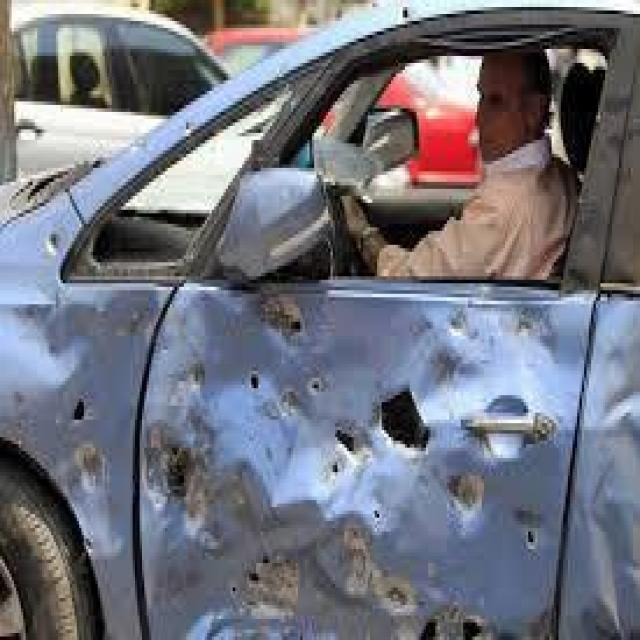damaged: (12, 228, 638, 636), (570, 24, 638, 290)
